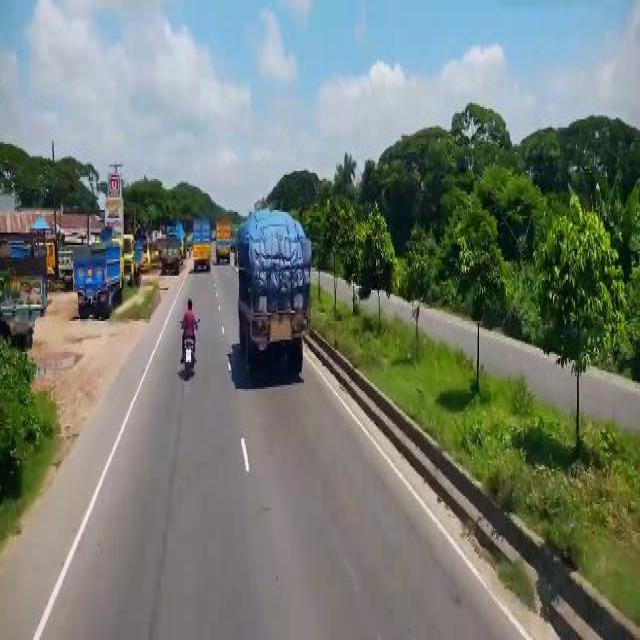bike: (178, 296, 201, 383)
vehicle: (235, 206, 313, 387), (73, 234, 127, 322), (192, 216, 215, 278), (216, 214, 233, 267)
